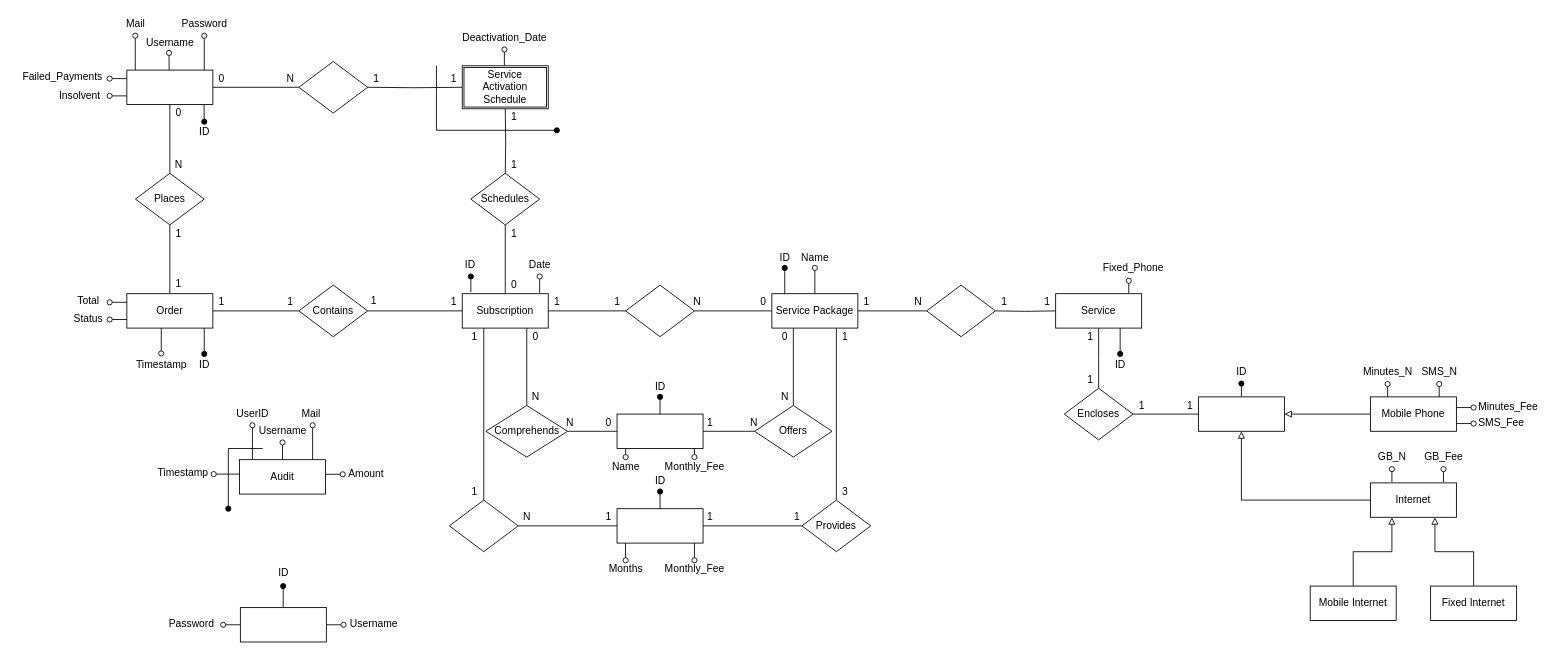
Image size: 1557x657. Some labels were removed from this diagram. The shapes that lost their labels are listed below. From the top down, each one's centre as x and y in pixels, then its label:
pixel 169 86: User
pixel 333 87: Owns
pixel 659 310: Comprises
pixel 960 310: Includes
pixel 659 430: Optional Product
pixel 1241 413: Service Type
pixel 483 525: Lasts
pixel 659 525: Validity Period
pixel 283 624: Employee
